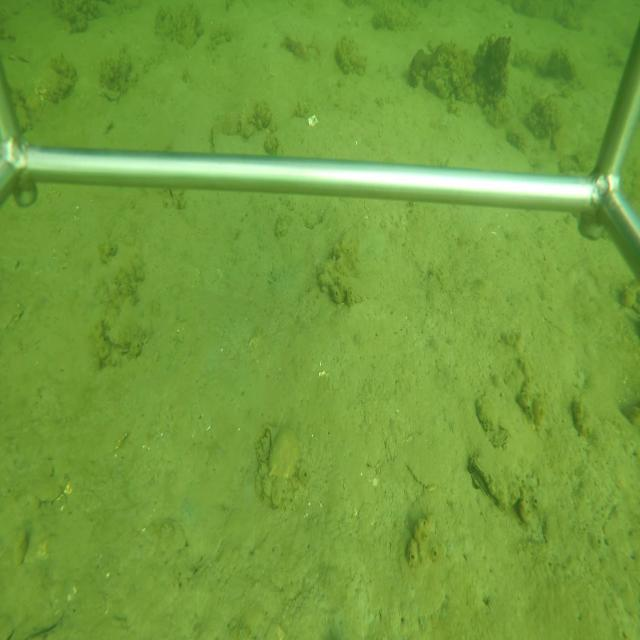Oyster-Open: (465, 452, 511, 512)
